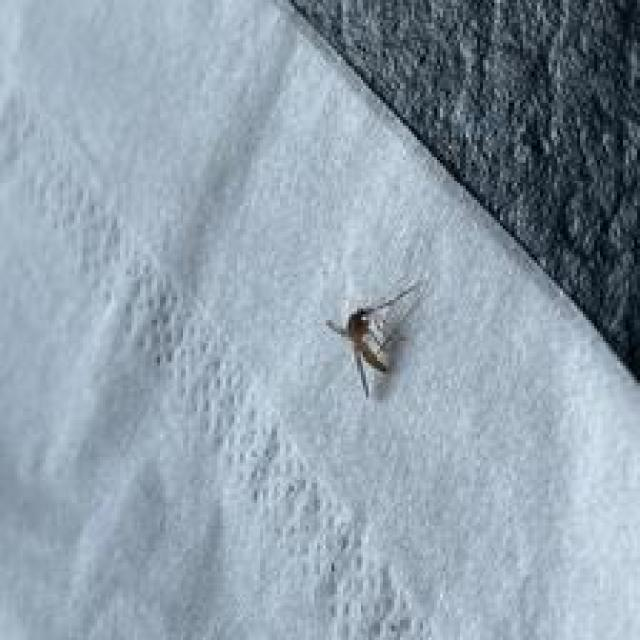Culex: (324, 280, 419, 397)
